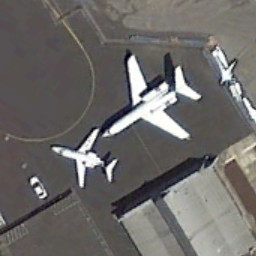Airplane: (98, 37, 207, 154), (44, 122, 121, 192)
